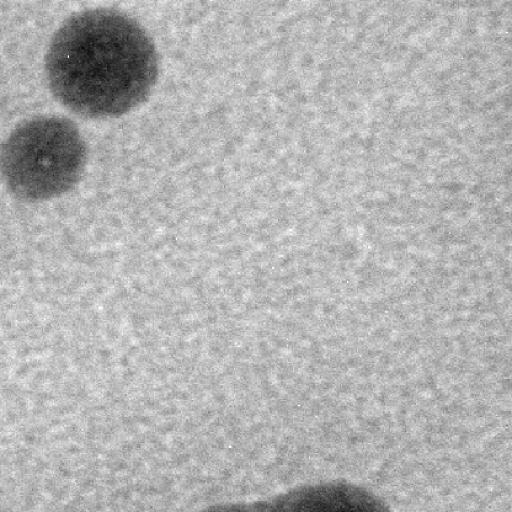Nanoparticles: (41, 5, 166, 123), (0, 114, 91, 202), (277, 476, 390, 512)
